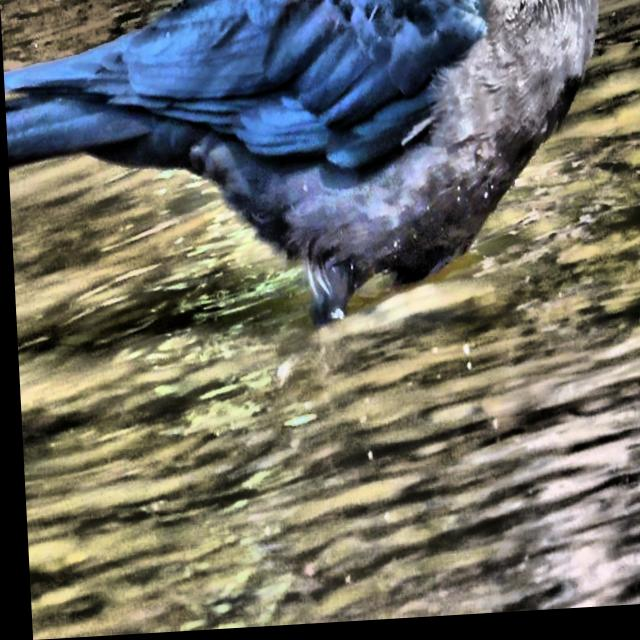crow: (0, 0, 612, 386)
